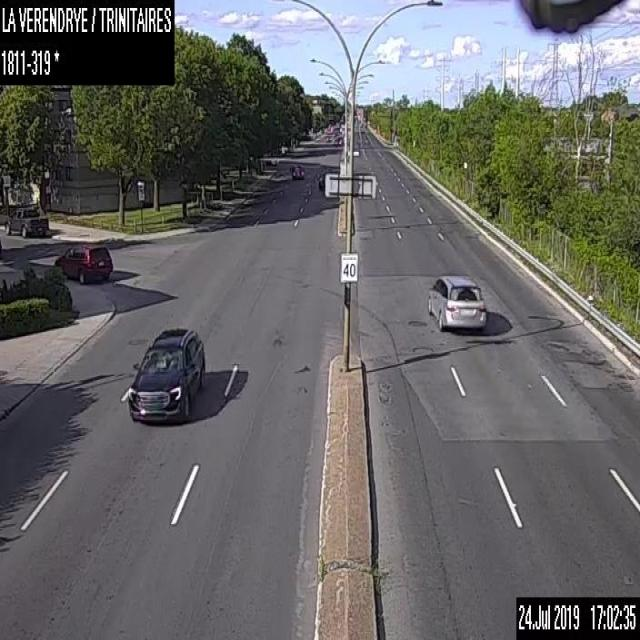vehicle: (127, 326, 206, 422), (426, 273, 486, 328), (52, 241, 112, 283), (3, 205, 48, 238), (318, 168, 334, 189), (290, 161, 305, 179), (337, 135, 343, 142), (334, 138, 340, 144), (325, 135, 330, 141)
